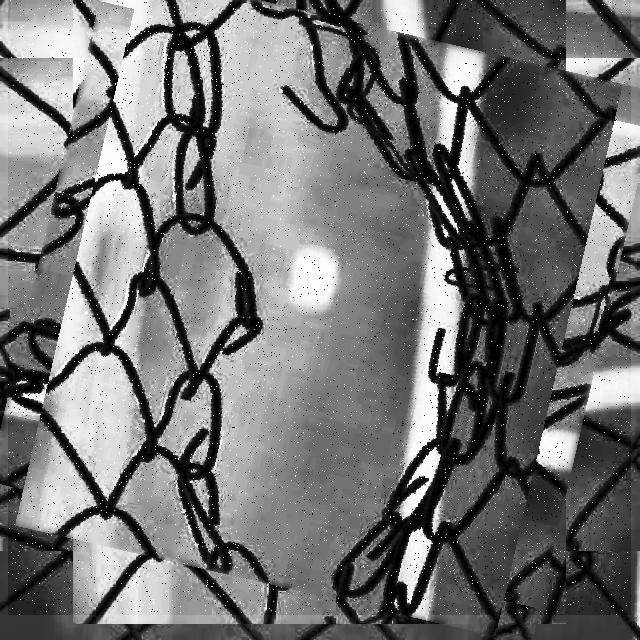anomaly-fence: (8, 0, 631, 615)
